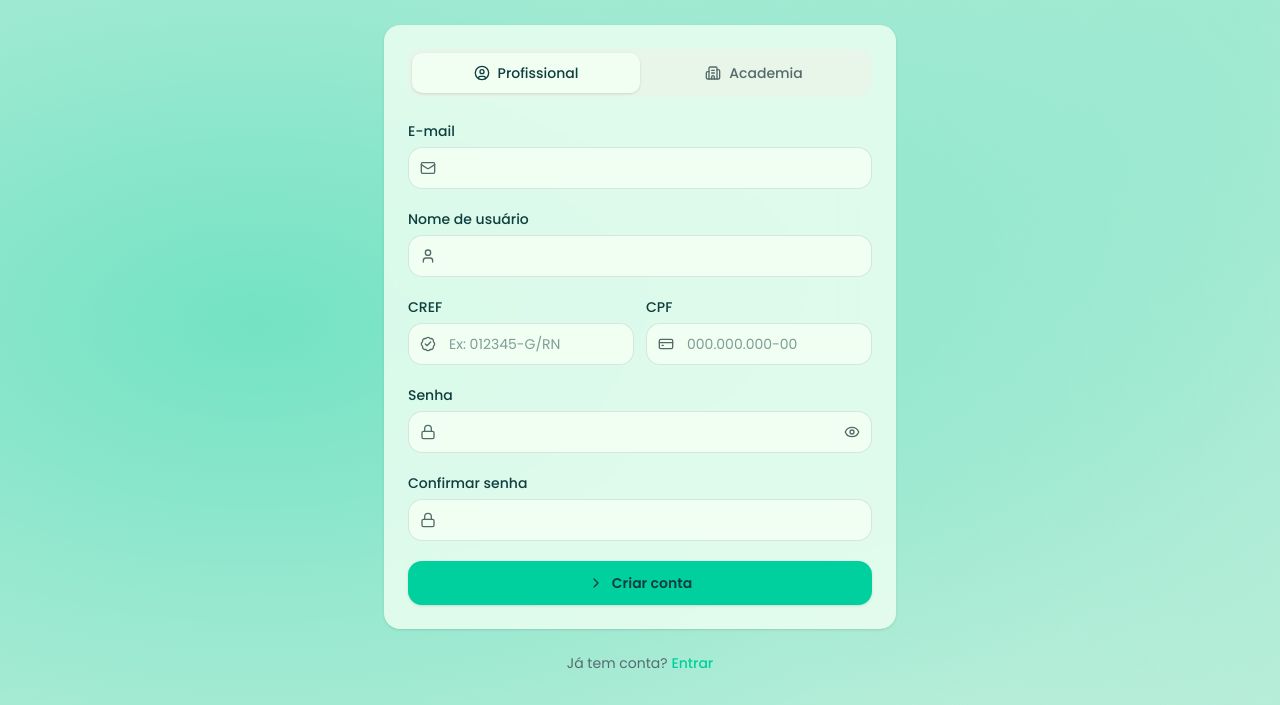
Test: RegisterPage › shows validation errors on empty submit
The width and height of the screenshot is (1280, 705).
(page scrolled)
Step 1. Click the button "Criar conta" → (640, 583), box [408, 561, 872, 605]
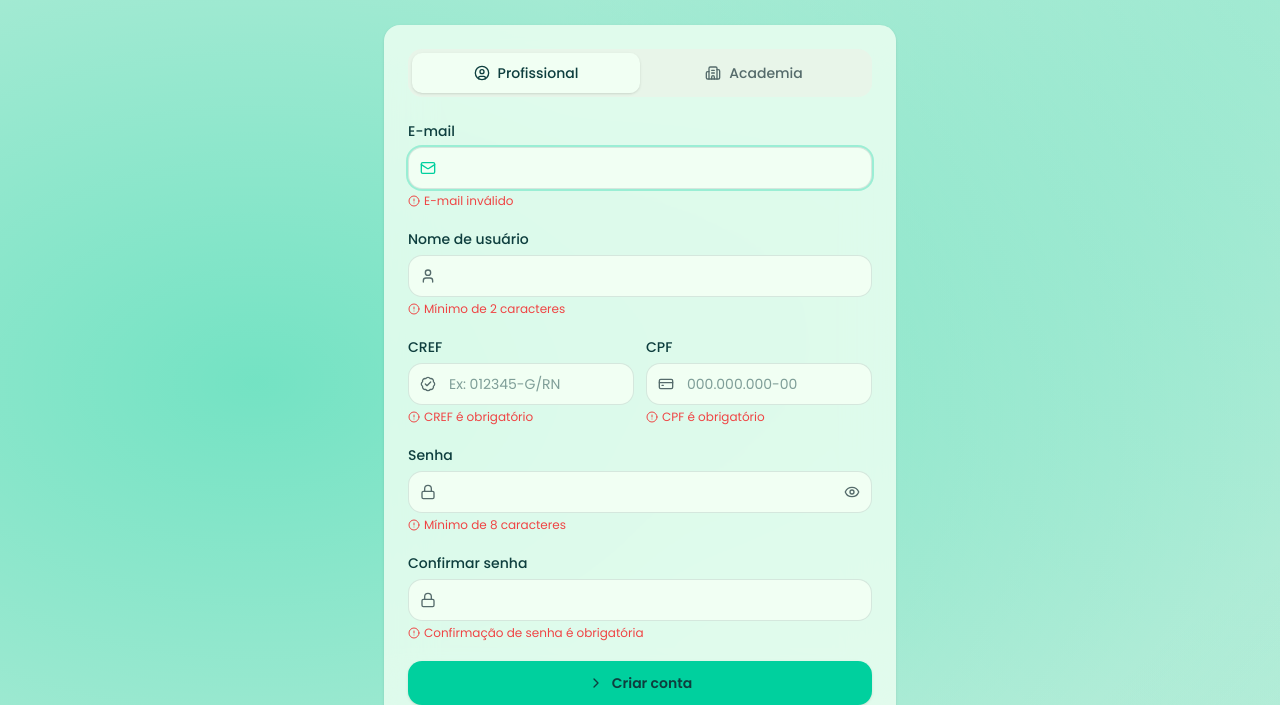
Expected: the text "E-mail inválido" is shown, [408, 192, 514, 209]
Expected: the text "Mínimo de 2 caracteres" is shown, [408, 300, 565, 317]
Expected: the text "Mínimo de 8 caracteres" is shown, [408, 516, 566, 533]
